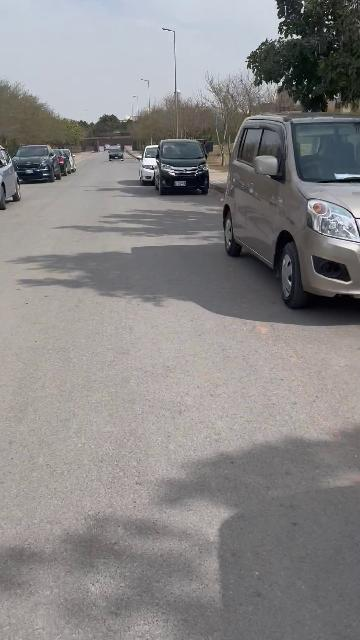plate: (174, 181, 186, 186)
